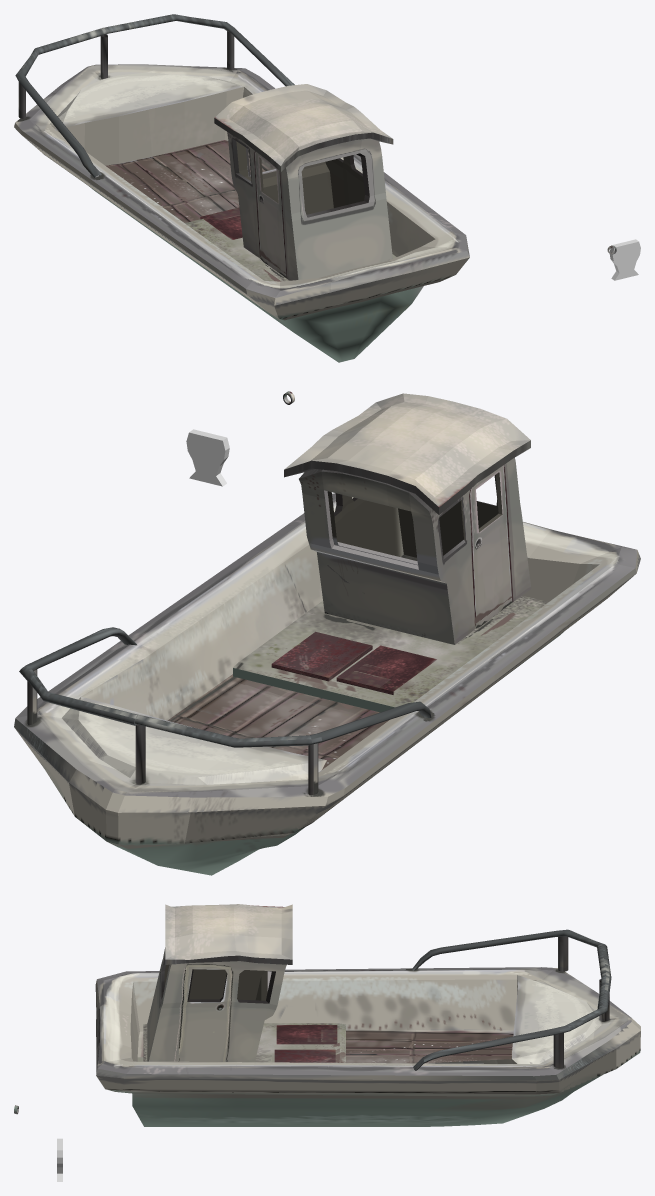
Rendered from SM_boat.fbx.
3 renders of one model, top to bottom at view 1: azimuth 30°, elevation 25°; view 2: azimuth 150°, elevation 25°; view 3: azimuth 270°, elevation 25°, orthographic. The views are drawn at different scales.
Visible parts, largest first — view 1: Cube, Cube.002; view 2: Cube, Cube.002; view 3: Cube.
Part boxes in pixels (<box>): Cube: <box>14,14,469,362</box>; Cube.002: <box>609,239,640,280</box>; Cube: <box>14,393,640,875</box>; Cube.002: <box>186,429,229,486</box>; Cube: <box>95,904,640,1126</box>.
Size of the model in its own units: 1095 by 618 by 1700.
Materials: 1 (1 with a texture image).
